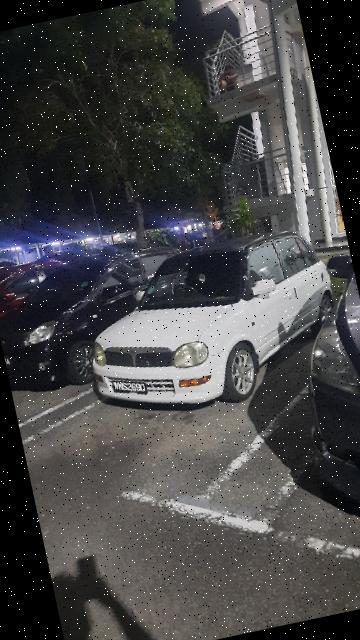License_Plate: (110, 373, 150, 405)
car: (70, 215, 354, 430)
